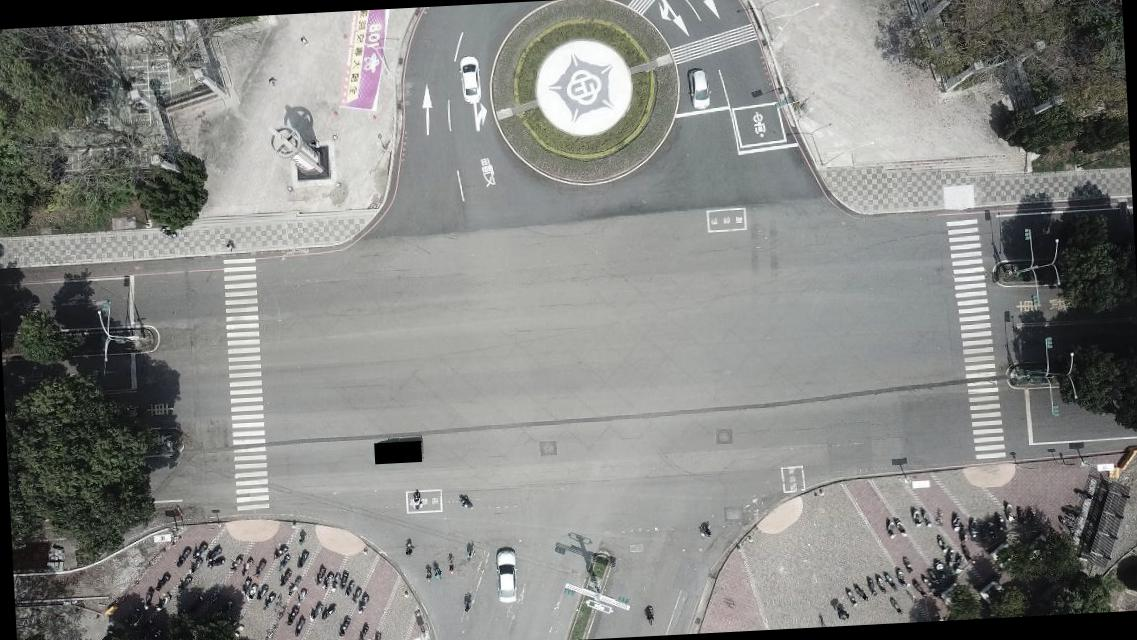vehicle: (495, 548, 518, 603), (460, 56, 482, 104), (688, 68, 710, 110)
